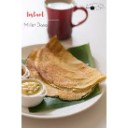dosa: (26, 40, 104, 97)
